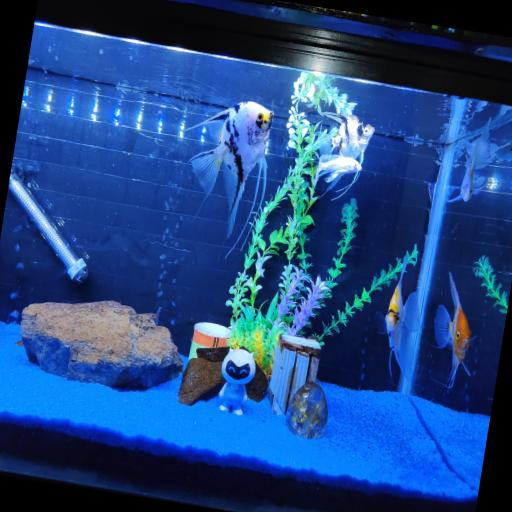Fish: (187, 101, 272, 237), (374, 255, 418, 380), (434, 272, 470, 389), (448, 129, 490, 202), (317, 112, 373, 165), (312, 155, 361, 187), (489, 143, 511, 163)
